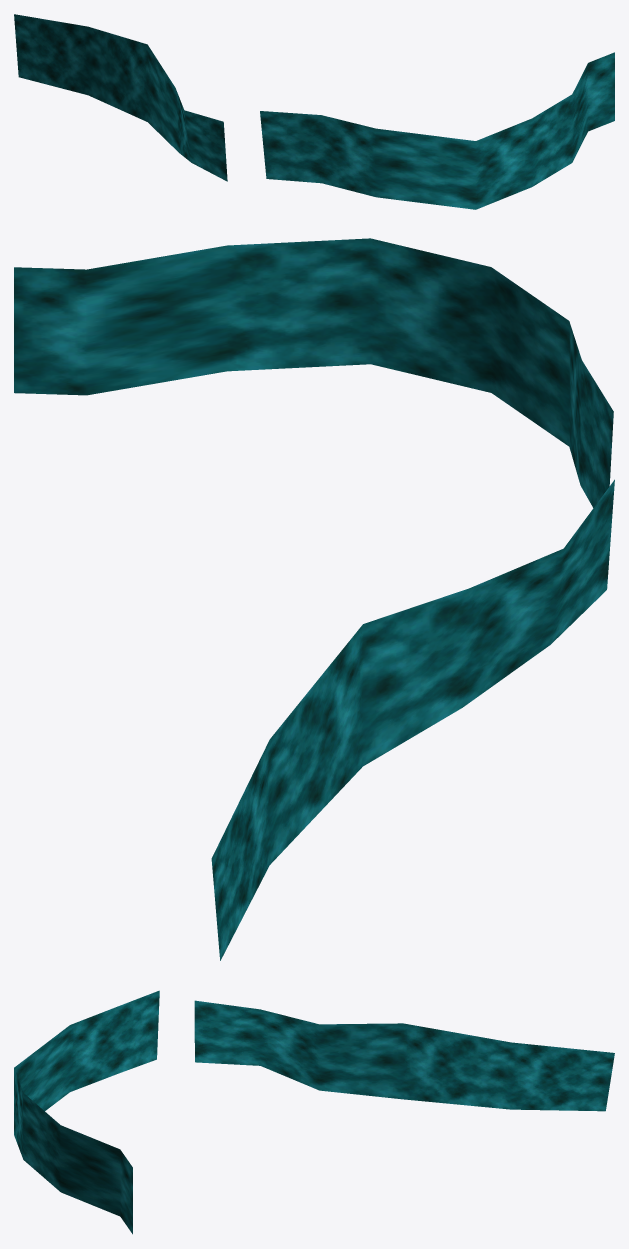
Rendered from MIRKWOOD_FOGH.fbx.
3 renders of one model, top to bottom at view 1: azimuth 30°, elevation 25°; view 2: azimuth 150°, elevation 25°; view 3: azimuth 270°, elevation 25°, orthographic. The views are drawn at different scales.
Visible parts, largest first — view 1: MIRKWOOD_FOGH; view 2: MIRKWOOD_FOGH; view 3: MIRKWOOD_FOGH.
Part boxes in pixels (<box>): MIRKWOOD_FOGH: <box>14,14,614,209</box>; MIRKWOOD_FOGH: <box>14,238,614,960</box>; MIRKWOOD_FOGH: <box>14,990,614,1234</box>.
Size of the model in its own units: 461188 by 159704 by 671959.
Materials: 1 (1 with a texture image).
